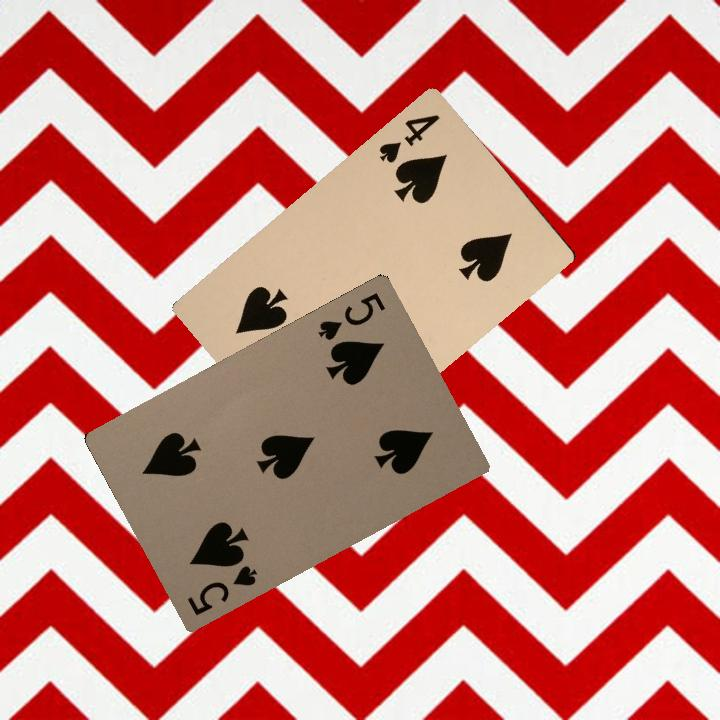4s: (374, 110, 442, 166)
5s: (183, 561, 260, 618), (314, 288, 388, 343)
